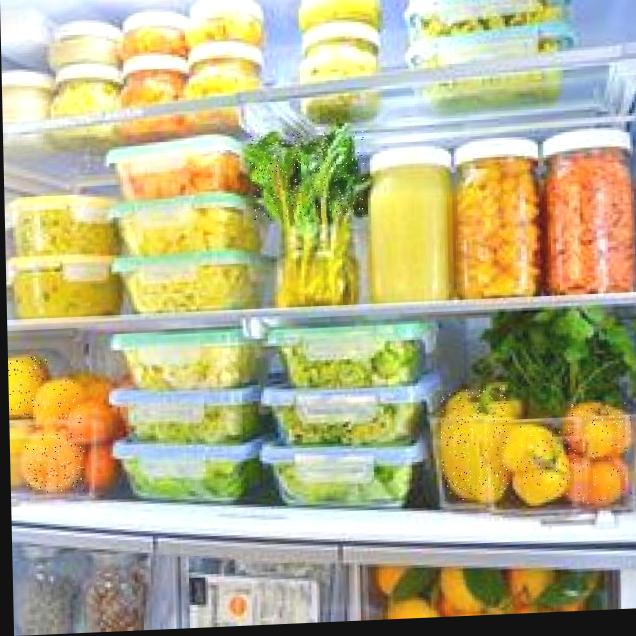orange: (23, 431, 85, 493), (8, 356, 48, 419), (35, 379, 83, 427)
parsley: (250, 130, 366, 222)
yellow bell pepper: (440, 388, 509, 501), (509, 423, 571, 501), (568, 401, 632, 458), (569, 452, 632, 507)
